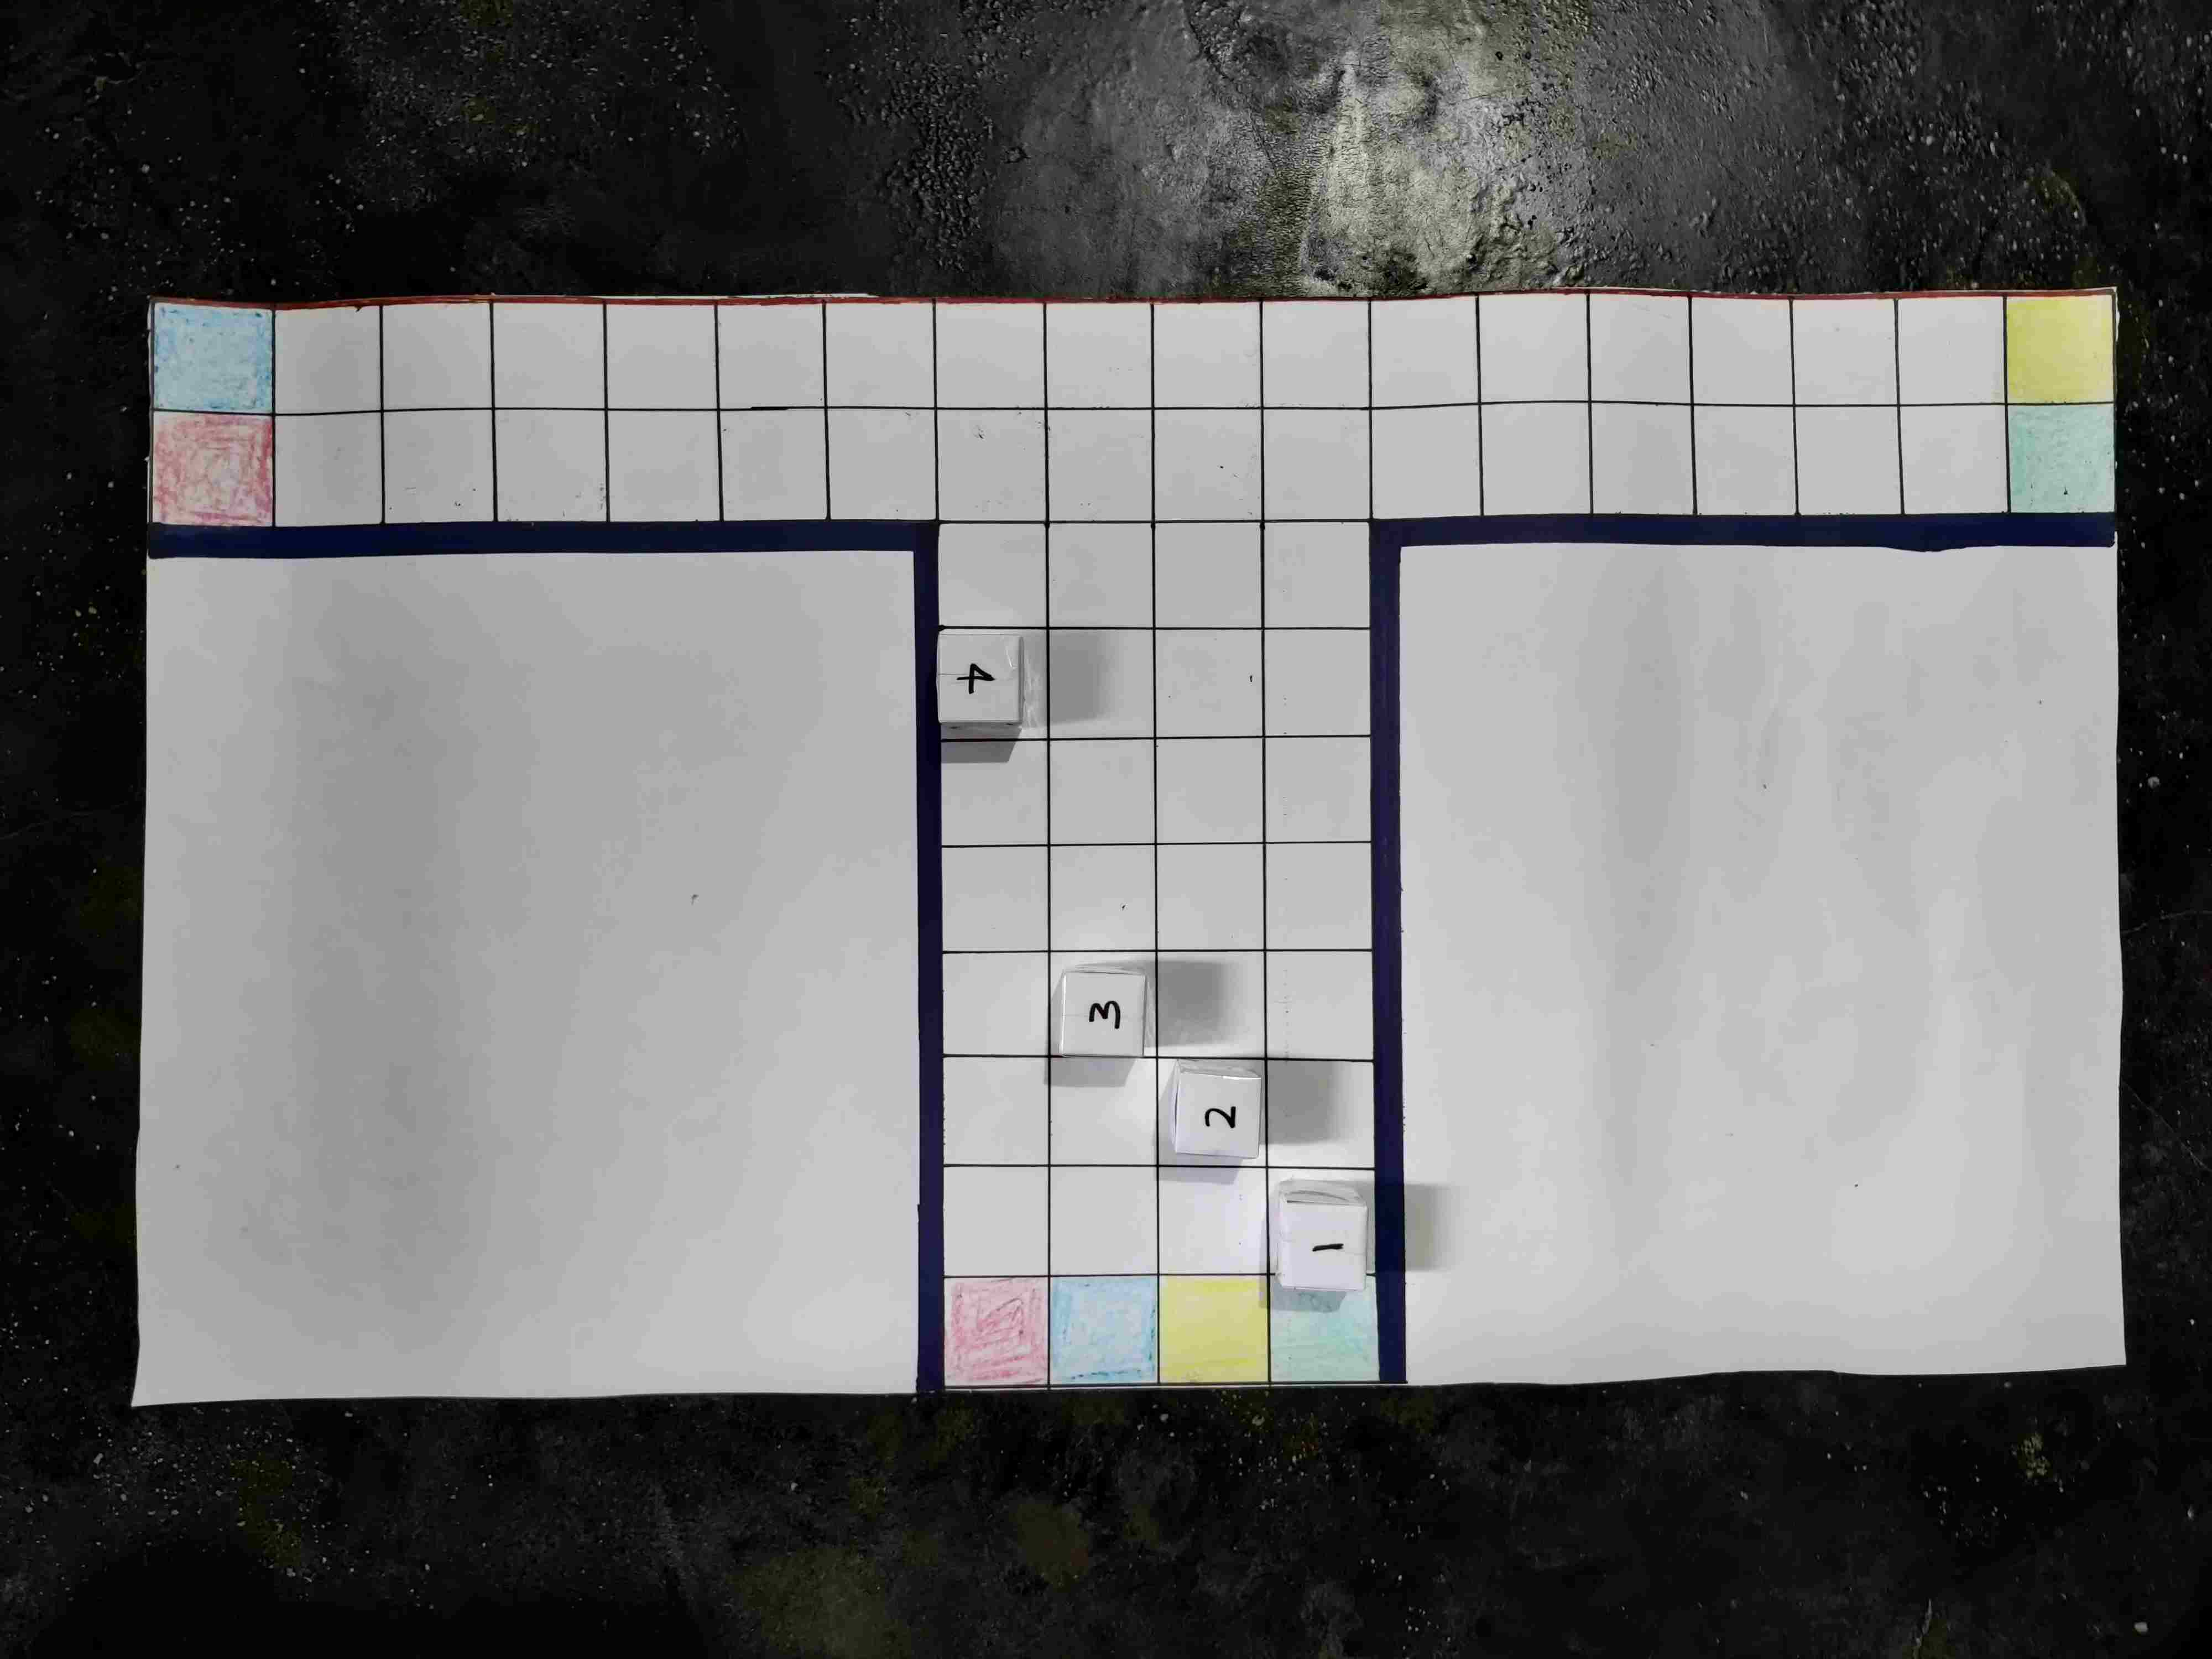arena: (167, 14, 2081, 1009)
bot: (563, 870, 644, 960), (1169, 735, 1252, 823), (1057, 744, 1144, 826), (1611, 840, 1686, 920)
